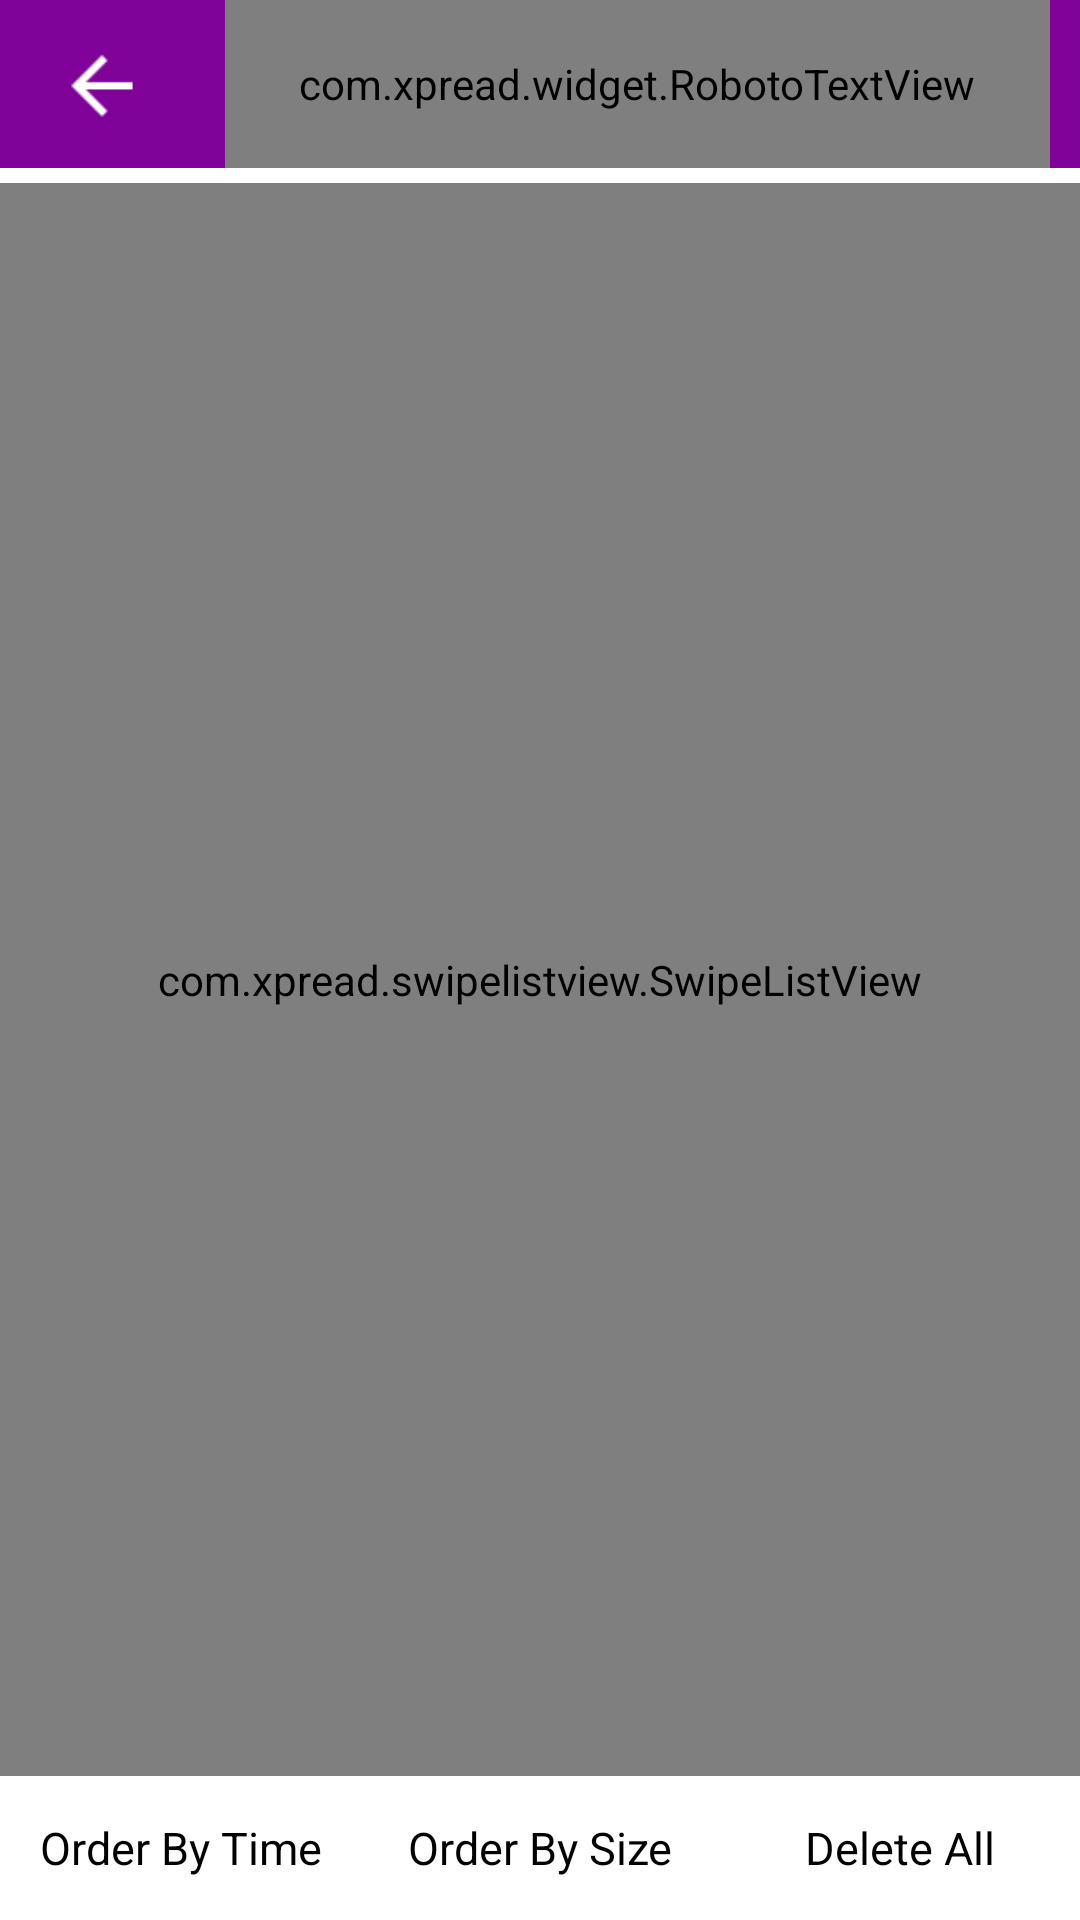

Named icons in this screenshot (1080×1920) and their bounding boxes, [left=x1, top=y1, right=x2, bottom=y2]:
back: [left=71, top=55, right=133, bottom=117]
